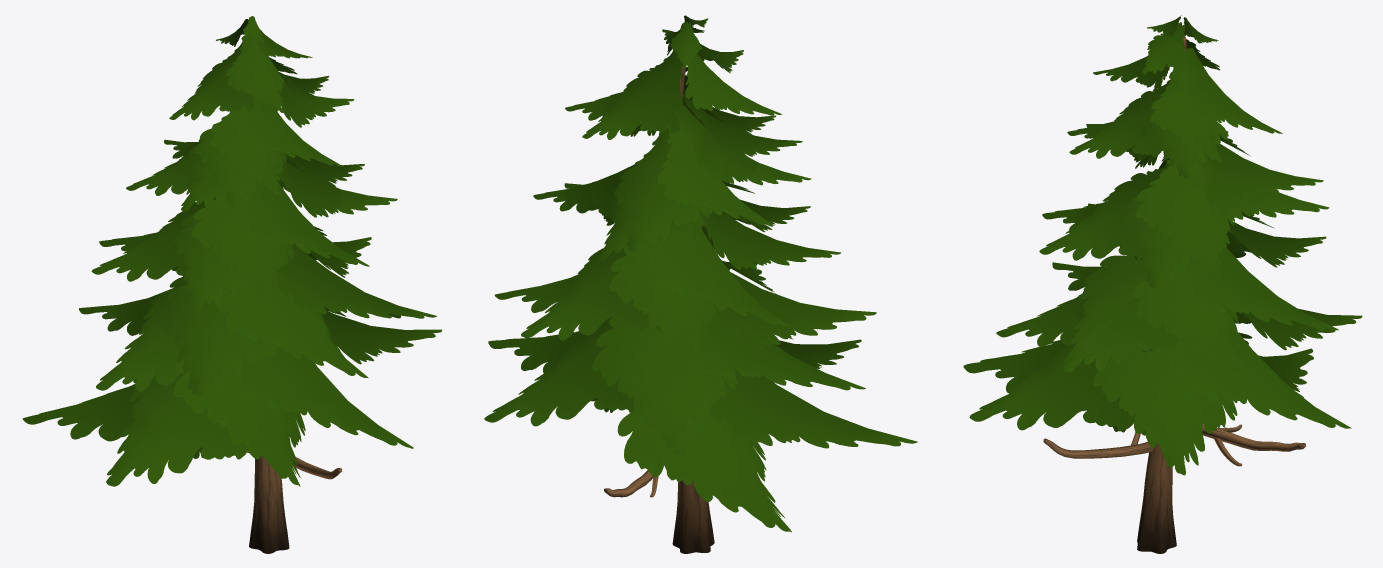
Rendered from pine-2.glb.
3 renders of one model, left to right at view 1: azimuth 30°, elevation 25°; view 2: azimuth 150°, elevation 25°; view 3: azimuth 270°, elevation 25°, orthographic. The views are drawn at different scales.
Parts seen in each view (by area): view 1: Pine_2; view 2: Pine_2; view 3: Pine_2.
Part boxes in pixels (bbox=[...]): Pine_2: bbox=[22, 16, 441, 553]; Pine_2: bbox=[484, 15, 917, 553]; Pine_2: bbox=[963, 15, 1362, 553].
Size of the model in its own units: 5.73 by 7.38 by 5.22.
2 materials, 2 textured.
